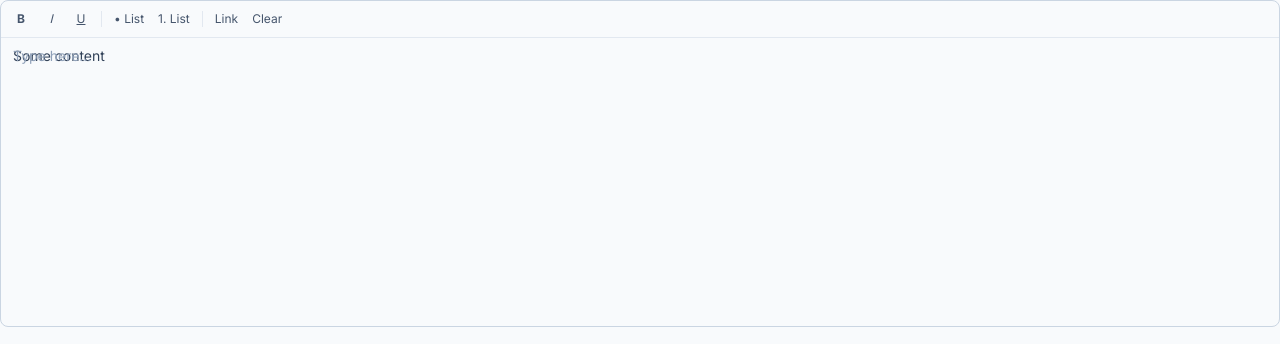
Test: RichTextEditor › hides the placeholder once content is typed
Expected: the text "Type here…" is shown, [13, 46, 92, 66]
Clear the field named "Job description editor". click: (59, 56)
box: [13, 47, 105, 64]
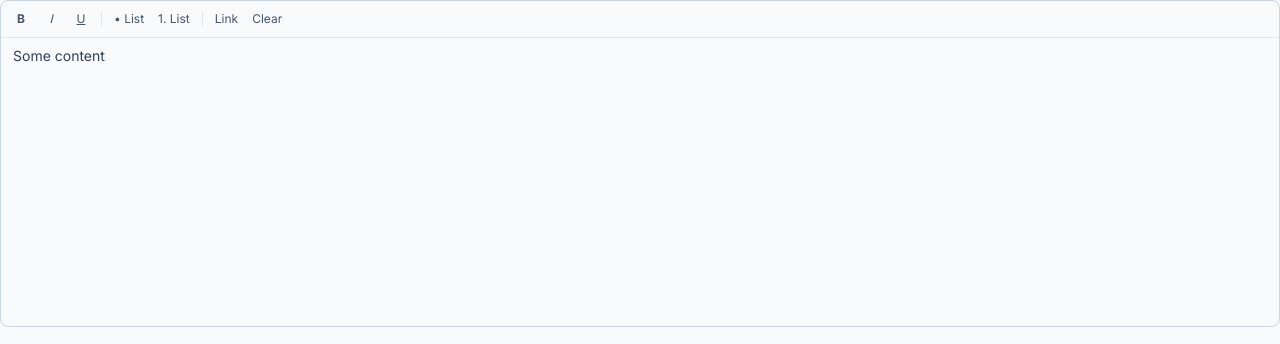
Expected: the text "Type here…" is gone
